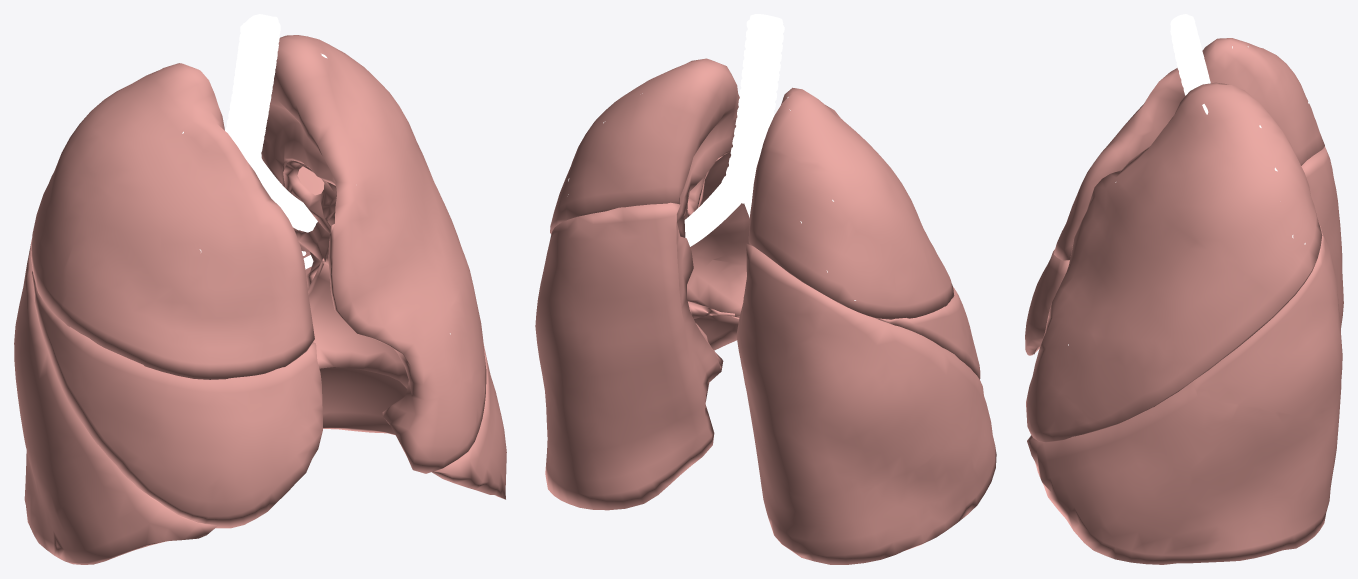
File: lung.glb
The picture shows the model from 3 angles, left to right: view 1: azimuth 30°, elevation 25°; view 2: azimuth 150°, elevation 25°; view 3: azimuth 270°, elevation 25°; orthographic projection. The views are drawn at different scales.
Parts seen in each view (by area): view 1: Superior lobe of right lung, Superior lobe of left lung, Middle lobe of right lung, Inferior lobe of right lung, Inferior lobe of left lung, Trachea, Left main bronchus; view 2: Inferior lobe of right lung, Inferior lobe of left lung, Superior lobe of right lung, Superior lobe of left lung, Trachea, Middle lobe of right lung, Left main bronchus; view 3: Superior lobe of left lung, Inferior lobe of left lung, Superior lobe of right lung, Inferior lobe of right lung, Trachea, Middle lobe of right lung.
Boxes of the visible parts, <box> form: Superior lobe of right lung: <box>31,63,314,379</box>; Superior lobe of left lung: <box>261,35,486,473</box>; Middle lobe of right lung: <box>31,271,322,528</box>; Inferior lobe of right lung: <box>14,239,217,564</box>; Inferior lobe of left lung: <box>297,166,506,499</box>; Trachea: <box>225,14,280,166</box>; Left main bronchus: <box>251,159,312,230</box>; Inferior lobe of right lung: <box>736,243,996,564</box>; Inferior lobe of left lung: <box>535,202,739,510</box>; Superior lobe of right lung: <box>748,87,954,319</box>; Superior lobe of left lung: <box>550,58,749,317</box>; Trachea: <box>721,14,784,203</box>; Middle lobe of right lung: <box>876,287,980,379</box>; Left main bronchus: <box>684,168,741,246</box>; Superior lobe of left lung: <box>1026,82,1322,442</box>; Inferior lobe of left lung: <box>1027,223,1342,564</box>; Superior lobe of right lung: <box>1054,38,1324,260</box>; Inferior lobe of right lung: <box>1301,146,1343,330</box>; Trachea: <box>1170,14,1210,95</box>; Middle lobe of right lung: <box>1025,249,1069,355</box>.
Bounding box in the file's own units: 0.2618 × 0.2945 × 0.1866.
